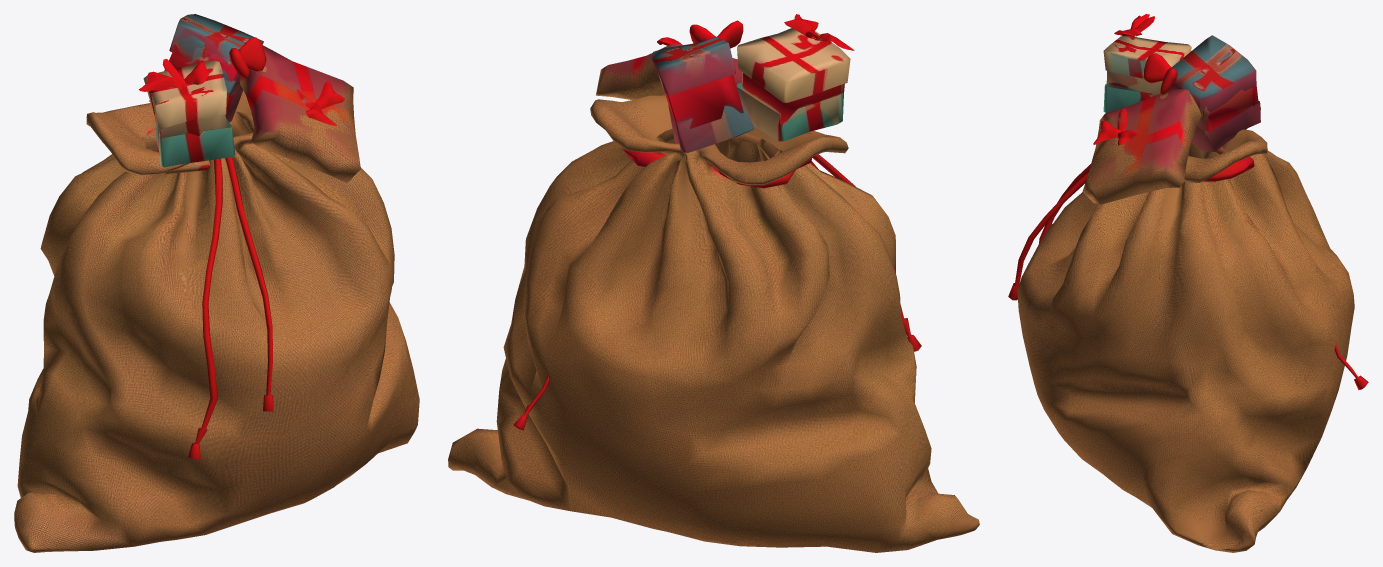
Rendered from xmas_sack.glb.
3 renders of one model, left to right at view 1: azimuth 30°, elevation 25°; view 2: azimuth 150°, elevation 25°; view 3: azimuth 270°, elevation 25°, orthographic. The views are drawn at different scales.
Size of the model in its own units: 1 by 0.9997 by 0.7928.
1 material, 1 textured.
